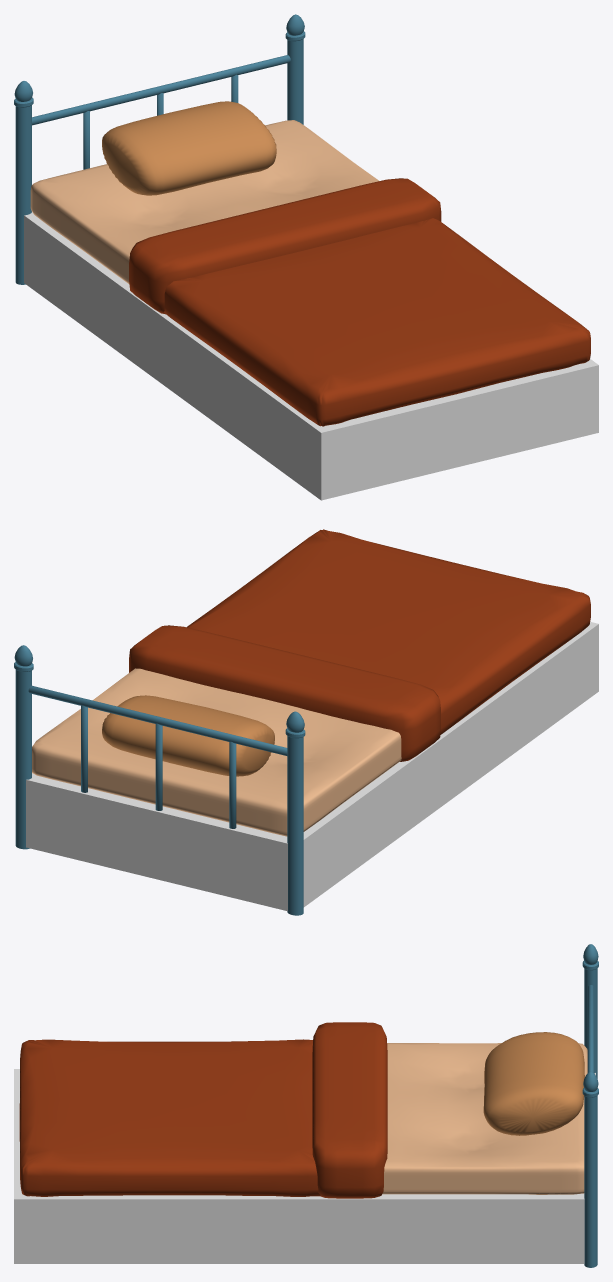
Rendered from bed_tier4.fbx.
The picture shows the model from 3 angles, top to bottom: view 1: azimuth 30°, elevation 25°; view 2: azimuth 150°, elevation 25°; view 3: azimuth 270°, elevation 25°; orthographic projection. The views are drawn at different scales.
Visible parts, largest first — view 1: Cube.002, Cube, Cube.001, Cylinder.012, Cylinder.001, Cylinder.004, Cylinder; view 2: Cube.002, Cube, Cube.001, Cylinder.012, Cylinder.001, Cylinder, Cylinder.004, Cylinder.002, Cylinder.008, Cylinder.003; view 3: Cube.002, Cube, Cube.001, Cylinder.012, Cylinder, Cylinder.001, Cylinder.004.
Boxes of the visible parts, left/top/right/bottom form: Cube.002: left=129, top=178, right=590, bottom=426; Cube: left=24, top=212, right=598, bottom=500; Cube.001: left=30, top=120, right=379, bottom=283; Cylinder.012: left=102, top=101, right=276, bottom=195; Cylinder.001: left=14, top=81, right=33, bottom=284; Cylinder.004: left=32, top=55, right=290, bottom=125; Cylinder: left=285, top=14, right=305, bottom=124; Cube.002: left=129, top=529, right=590, bottom=761; Cube: left=26, top=622, right=598, bottom=911; Cube.001: left=32, top=668, right=401, bottom=836; Cylinder.012: left=102, top=695, right=274, bottom=776; Cylinder.001: left=285, top=711, right=305, bottom=915; Cylinder: left=14, top=645, right=33, bottom=849; Cylinder.004: left=28, top=685, right=287, bottom=755; Cylinder.002: left=155, top=723, right=162, bottom=810; Cylinder.008: left=229, top=741, right=236, bottom=828; Cylinder.003: left=81, top=705, right=87, bottom=792; Cube.002: left=19, top=1022, right=387, bottom=1198; Cube: left=14, top=1069, right=595, bottom=1263; Cube.001: left=382, top=1043, right=587, bottom=1194; Cylinder.012: left=483, top=1032, right=584, bottom=1135; Cylinder: left=582, top=1071, right=598, bottom=1267; Cylinder.001: left=582, top=944, right=598, bottom=1078; Cylinder.004: left=587, top=985, right=593, bottom=1072.
Bounding box in the file's own units: 197 × 131 × 359.
